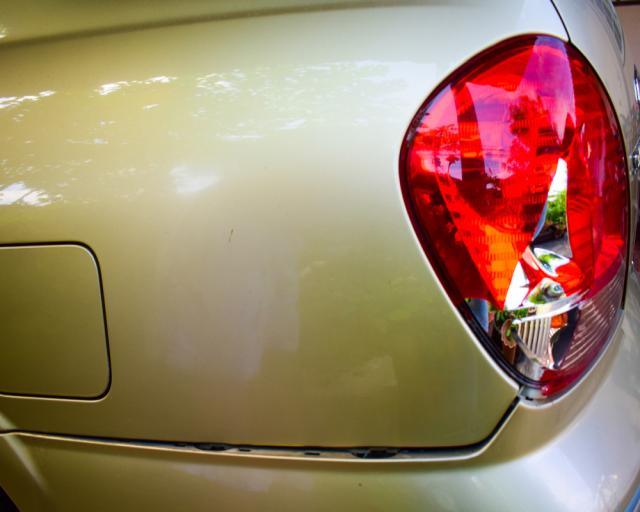lamp broken: (399, 35, 629, 403)
